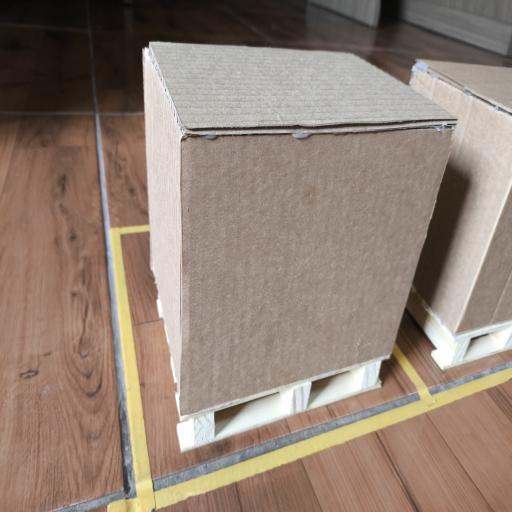pallet: (177, 358, 384, 451), (177, 360, 381, 451), (407, 290, 511, 369)
